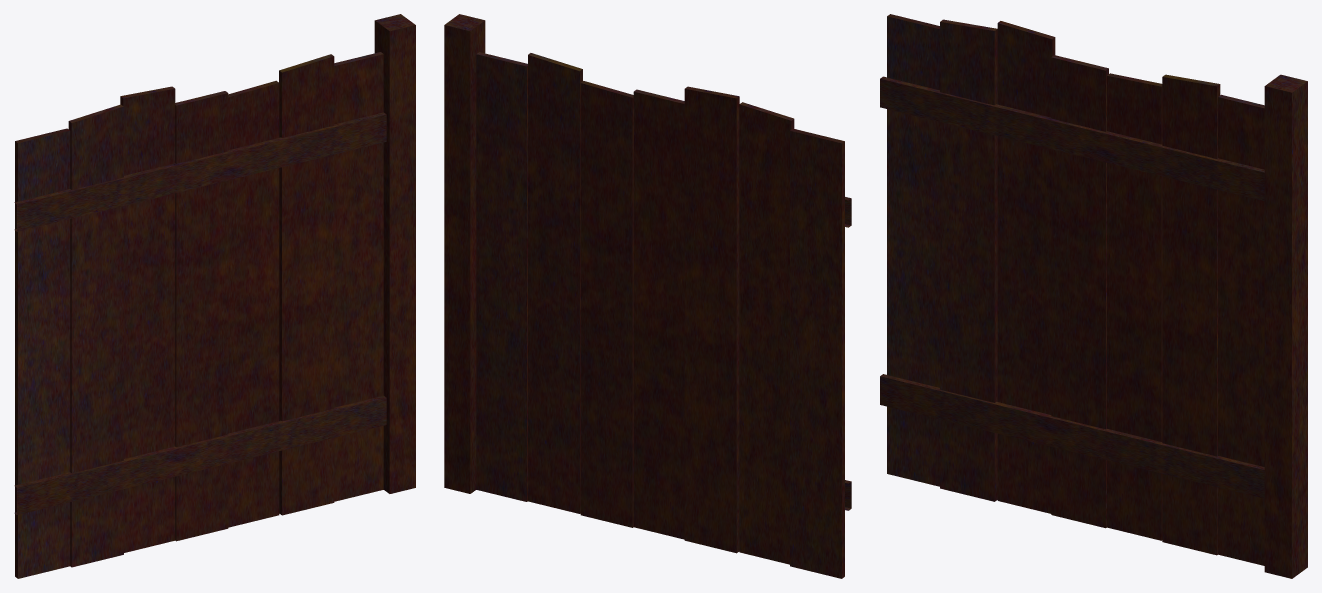
File: Wood_1.FBX
3 views of the same model, side by side, from view 1: azimuth 30°, elevation 25°; view 2: azimuth 150°, elevation 25°; view 3: azimuth 330°, elevation 25° (orthographic). The views are drawn at different scales.
Visible parts, largest first — view 1: Wood_1; view 2: Wood_1; view 3: Wood_1.
Part boxes in pixels (left/top/right/bottom): Wood_1: left=14, top=14, right=415, bottom=578; Wood_1: left=444, top=14, right=851, bottom=578; Wood_1: left=880, top=14, right=1307, bottom=578.
Bounding box in the file's own units: 76 × 85 × 5.
